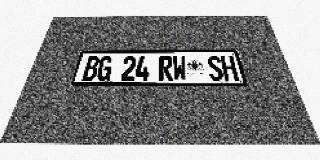2: (121, 56, 136, 81)
4: (135, 56, 150, 81)
B: (81, 56, 100, 81)
G: (96, 56, 113, 81)
H: (220, 56, 239, 81)
R: (159, 56, 173, 81)
S: (207, 56, 224, 81)
W: (172, 56, 187, 81)
